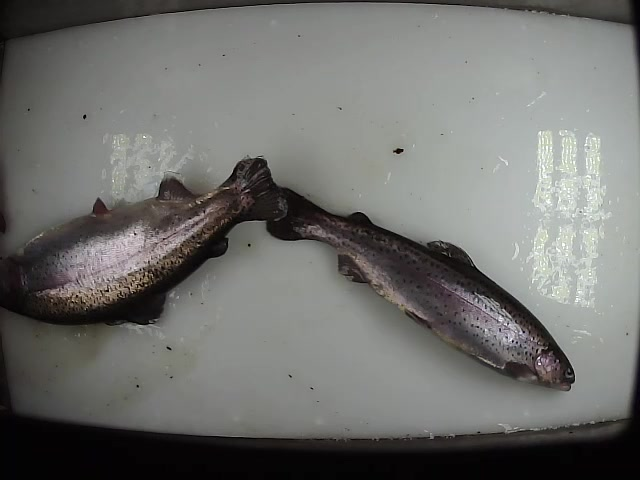fish: (262, 185, 576, 393), (1, 157, 284, 331)
